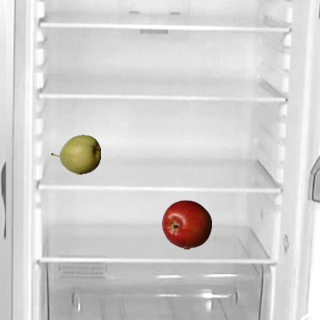Apple Braeburn: (161, 199, 211, 249)
Pear: (50, 129, 100, 179)
